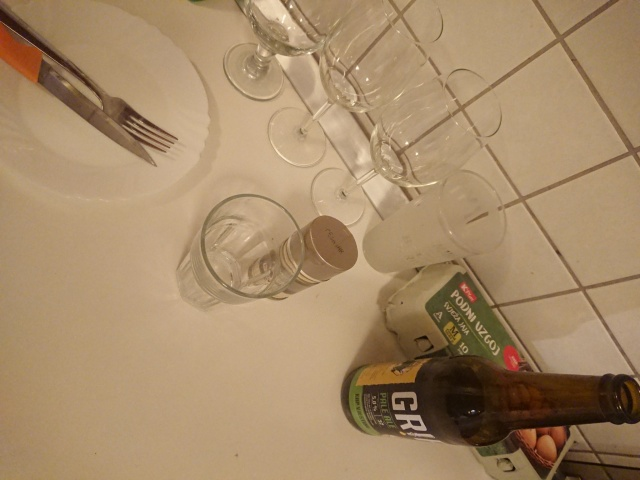Kotanyi Garlic Granules 70g: (247, 213, 361, 302)
